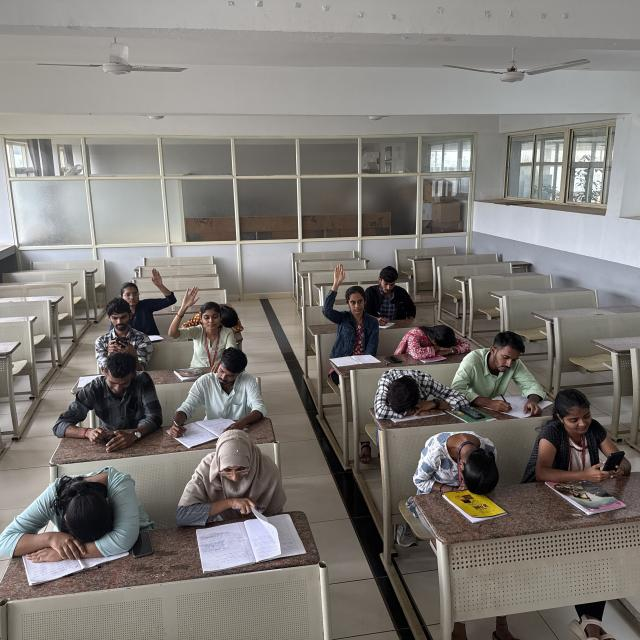Hand Rising: (168, 288, 230, 374), (318, 261, 378, 349), (120, 268, 175, 342)
Reading: (178, 432, 298, 549)
Sleeping: (0, 463, 143, 554), (415, 431, 499, 496), (373, 367, 463, 418), (192, 286, 248, 336), (400, 322, 472, 358)
Using Phone: (51, 348, 161, 444), (538, 387, 624, 481), (92, 296, 150, 369)
Writing: (166, 347, 266, 442), (458, 332, 547, 408), (368, 266, 416, 327)
